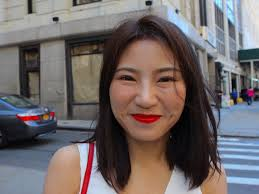no-mask: (103, 25, 191, 144)
